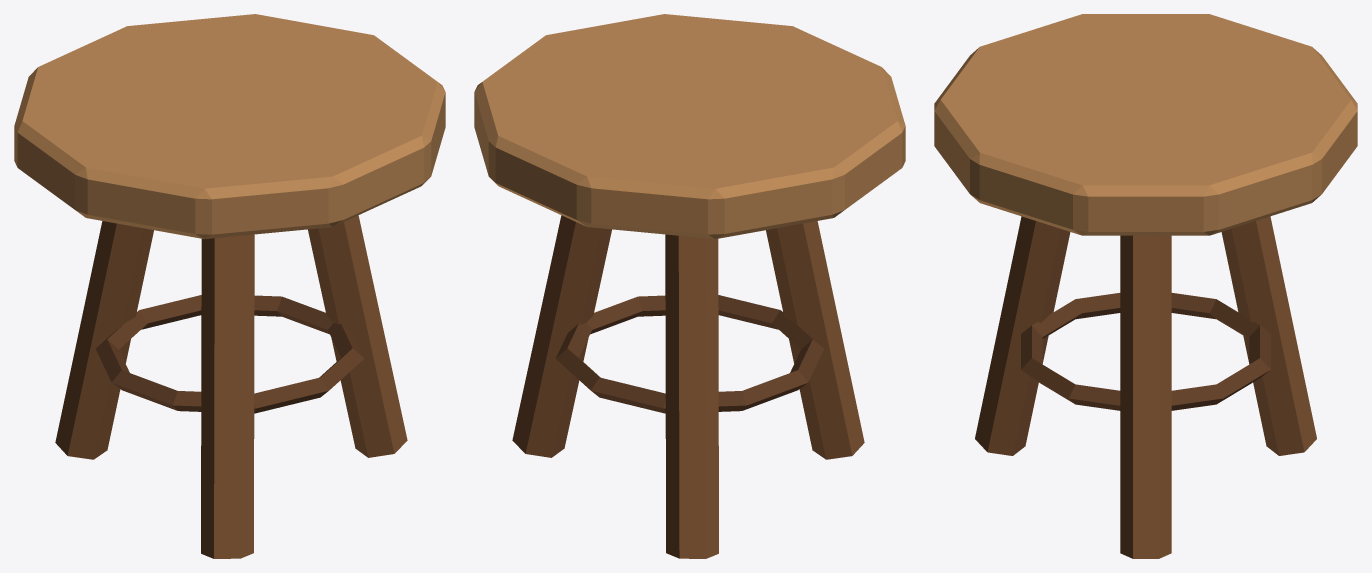
Rendered from Stool.fbx.
The picture shows the model from 3 angles, left to right: view 1: azimuth 30°, elevation 25°; view 2: azimuth 150°, elevation 25°; view 3: azimuth 270°, elevation 25°; orthographic projection.
Parts seen in each view (by area): view 1: Stool; view 2: Stool; view 3: Stool.
Part boxes in pixels (x1=…): Stool: x1=14, y1=14, x2=445, y2=558; Stool: x1=474, y1=14, x2=905, y2=558; Stool: x1=934, y1=14, x2=1357, y2=558.
Bounding box in the file's own units: 1.5 × 1.5 × 1.5.
